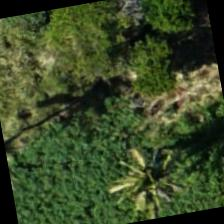Kelapa_Sawit: (83, 120, 188, 223)
